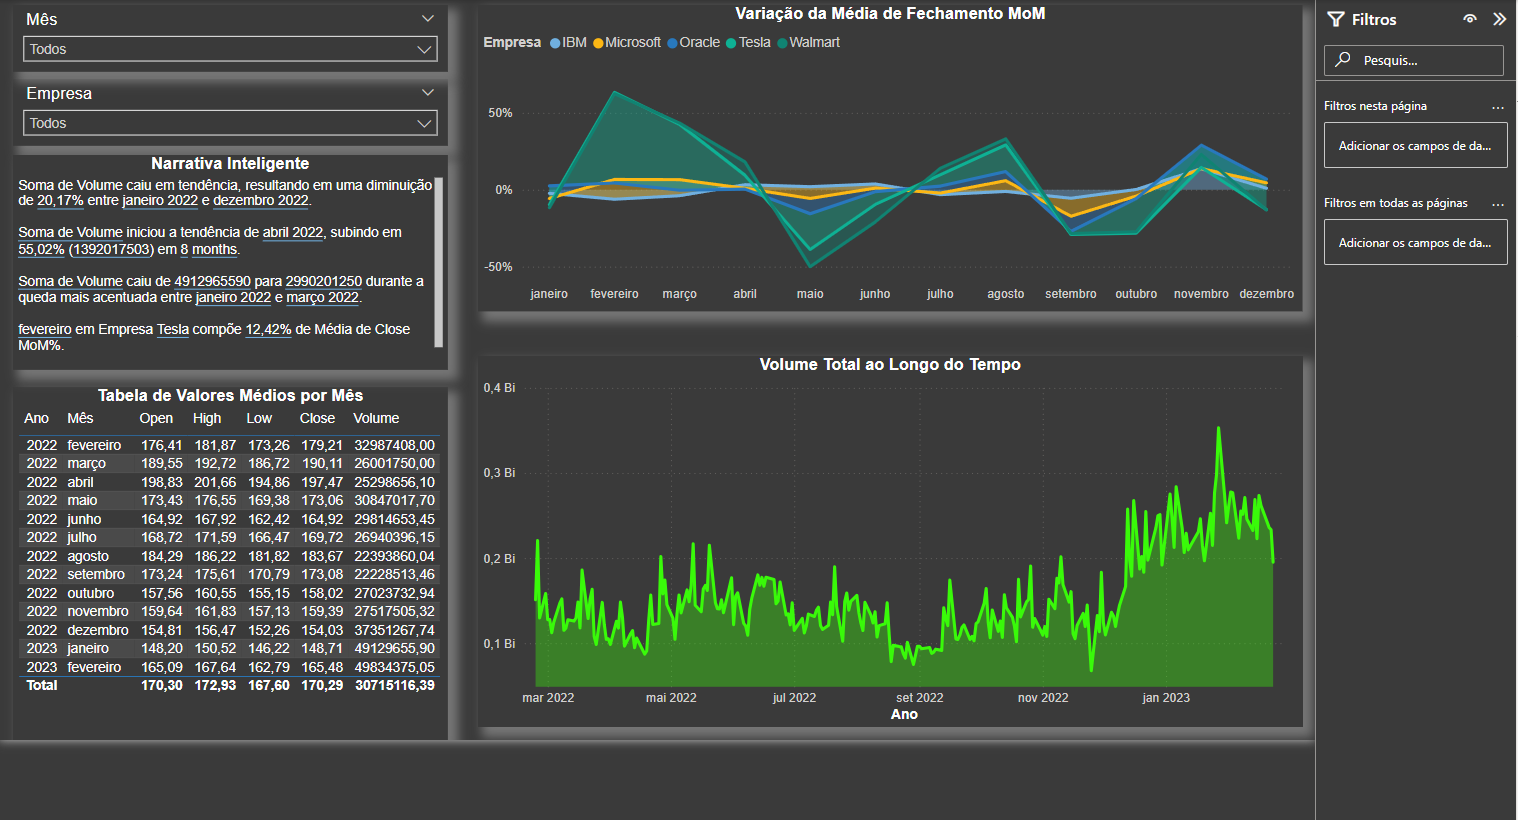

This screenshot's page, from the dashboard's own definition file:
{"tool":"powerbi","page":{"name":"Dashboard","canvas":[1280,720],"ordinal":0},"visuals":[{"type":"areaChart","title":"Volume Total ao Longo do Tempo","fields":{"Category":["StockMarket.Data.Variation.Hierarquia de datas.Ano","StockMarket.Data.Variation.Hierarquia de datas.Trimestre","StockMarket.Data.Variation.Hierarquia de datas.Mês","StockMarket.Data.Variation.Hierarquia de datas.Dia"],"Y":["Sum(StockMarket.Volume)"]},"box":[465.6,346.7,802.4,360.7],"z":0},{"type":"tableEx","title":"Tabela de Valores Médios por Mês","fields":{"Values":["StockMarket.Data.Variation.Hierarquia de datas.Ano","StockMarket.Data.Variation.Hierarquia de datas.Mês","Avg(StockMarket.Open)","Avg(StockMarket.High)","Avg(StockMarket.Low)","Avg(StockMarket.Close)","Avg(StockMarket.Volume)"]},"box":[14,376.7,422.7,343.7],"z":1000},{"type":"stackedAreaChart","title":"Variação da Média de Fechamento MoM","fields":{"Category":["StockMarket.Data.Variation.Hierarquia de datas.Mês"],"Series":["StockMarket.Empresa"],"Y":["StockMarket.Média de Close MoM%"]},"box":[465.6,5,802.4,297.8],"z":2000},{"type":"slicer","fields":{"Values":["StockMarket.Empresa"]},"box":[14,76.9,422.7,64.9],"z":3000},{"type":"textbox","title":"Narrativa Inteligente","box":[14,150.9,422.7,208.8],"z":4000},{"type":"slicer","fields":{"Values":["StockMarket.Data.Variation.Hierarquia de datas.Mês"]},"box":[14,5,422.7,64.9],"z":5000}]}

Visuals, with their boxes on the page's 1280x720 design canvas (x1, y1, x2, y2). These are canvas units, not pixel positions in the 1518x820 screenshot, which may show the page scaled, cropped or inside an application window:
"Volume Total ao Longo do Tempo" areaChart: bbox=(466, 347, 1268, 707)
"Tabela de Valores Médios por Mês" tableEx: bbox=(14, 377, 437, 720)
"Variação da Média de Fechamento MoM" stackedAreaChart: bbox=(466, 5, 1268, 303)
slicer - StockMarket.Empresa: bbox=(14, 77, 437, 142)
"Narrativa Inteligente" textbox: bbox=(14, 151, 437, 360)
slicer - StockMarket.Data.Variation.Hierarquia de datas.Mês: bbox=(14, 5, 437, 70)
